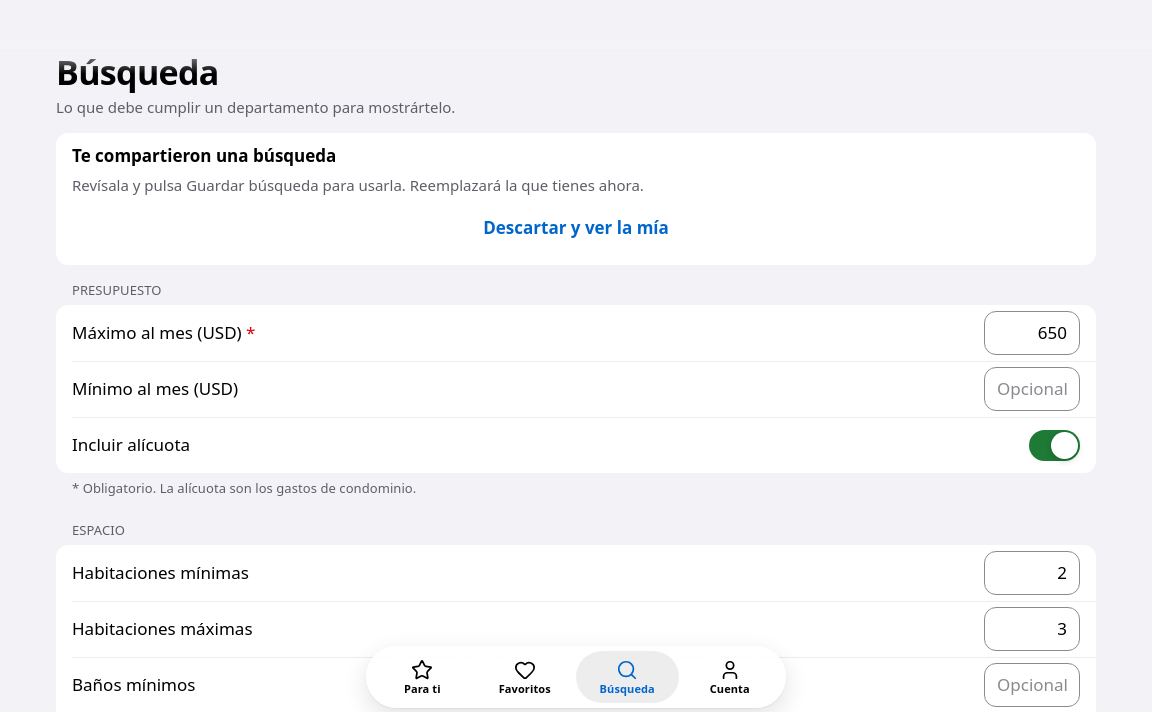
Test case: SearchProfilePage › sharing › goes back to the own search when the received one is discarded
The image size is (1152, 712).
Click the button "Descartar y ver la mía" at (576, 228), box [72,203,1080,253]
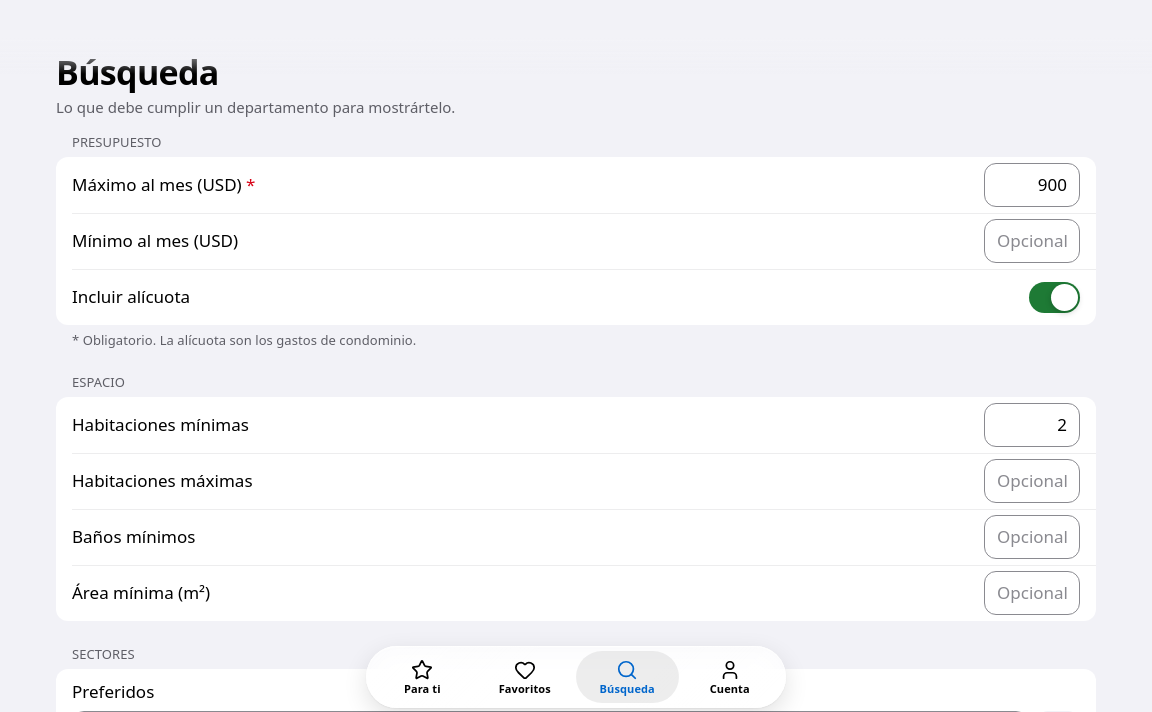
Expected: the field labelled "Máximo al mes (USD)" holds "900", [984,163,1080,207]
Expected: the heading "compartieron" is gone
